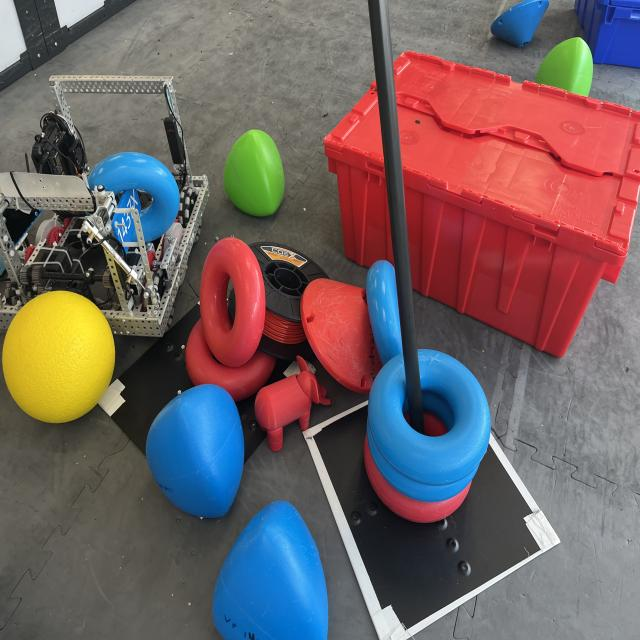Blue-Ring: (368, 350, 490, 485), (368, 425, 479, 502), (88, 152, 180, 242), (366, 260, 402, 365)
Red-Ring: (364, 437, 471, 523), (200, 238, 265, 367), (185, 320, 276, 402), (424, 412, 448, 437), (196, 363, 198, 365)
